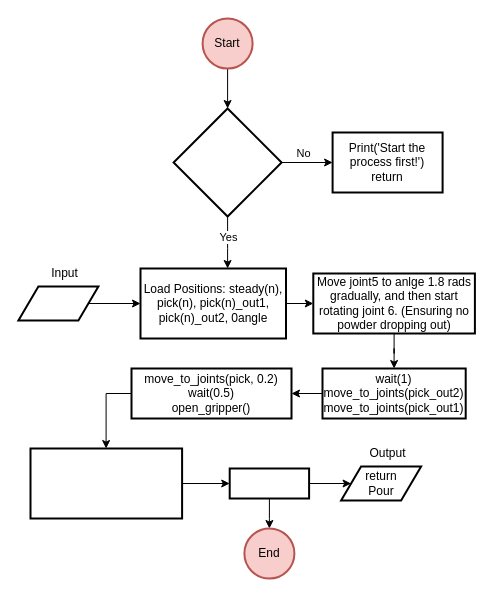
Image size: 493x596. Some labels were removed from this diagram. Here are the shapes that lost their labels. From the top down, the centre of each, then its label:
At point (227, 162): "Is Pour = True?".
At point (58, 303): "n = Pour".
At point (106, 483): "wait(0.5) move_to_joints(steady, 0.5) - Set balance to Zero".
At point (269, 483): "Pour = False".
